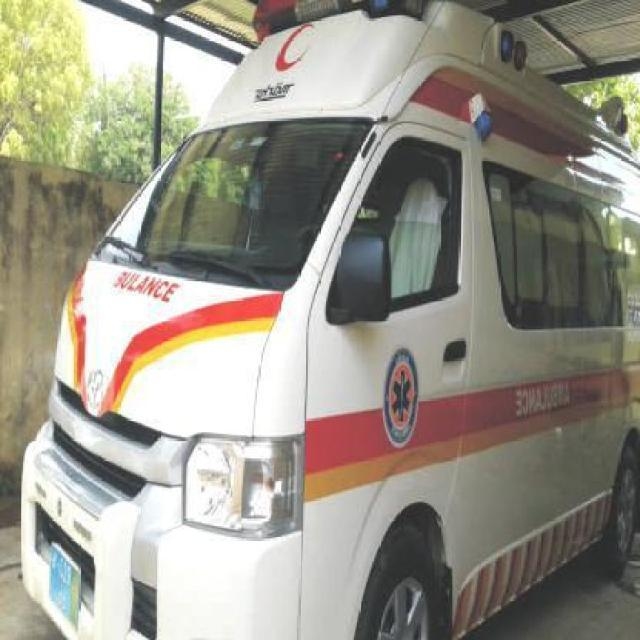emergency: (17, 1, 638, 638)
